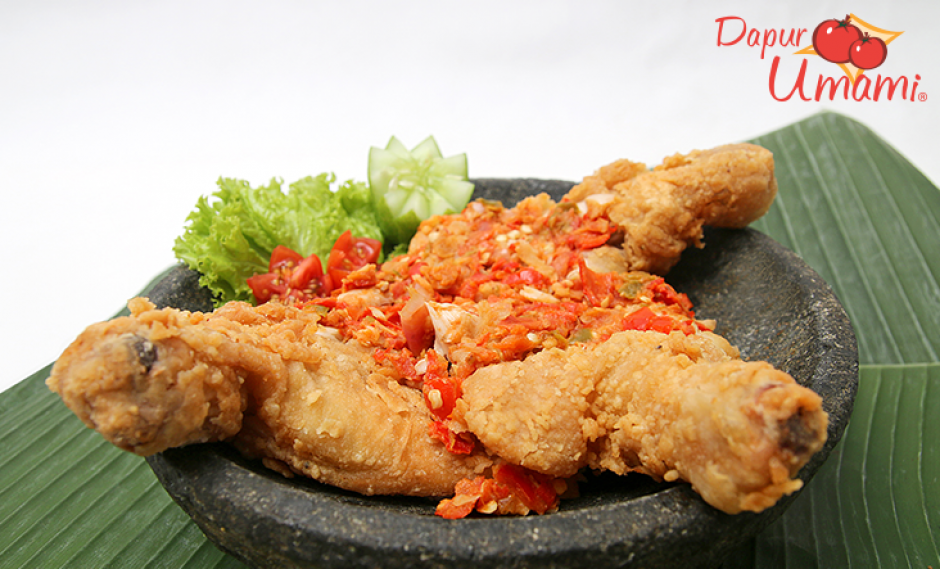ayam_geprek: (83, 138, 833, 514)
